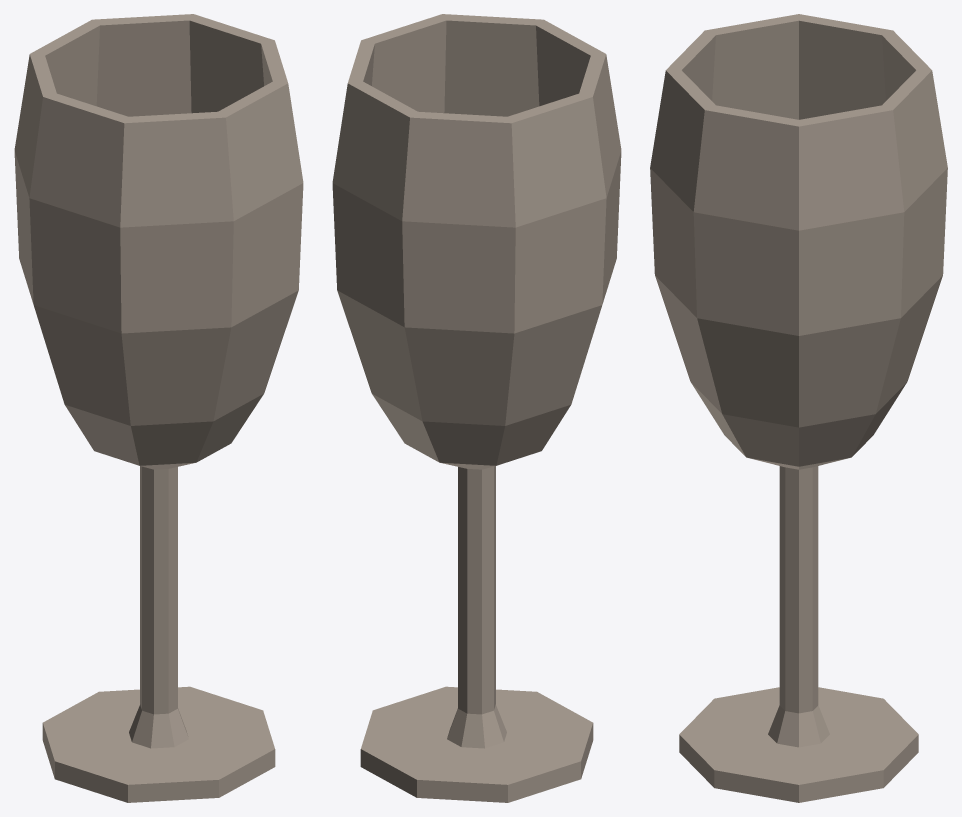
Rendered from Wineglass2_C2.fbx.
3 views of the same model, side by side, from view 1: azimuth 30°, elevation 25°; view 2: azimuth 150°, elevation 25°; view 3: azimuth 270°, elevation 25° (orthographic).
Parts seen in each view (by area): view 1: Wineglass2_C2; view 2: Wineglass2_C2; view 3: Wineglass2_C2.
Boxes of the visible parts, x1,y1,x2,y2 form: Wineglass2_C2: (14, 14, 303, 802); Wineglass2_C2: (332, 14, 621, 802); Wineglass2_C2: (650, 14, 947, 802).
Bounding box in the file's own units: 7.4 × 18.71 × 7.4.
